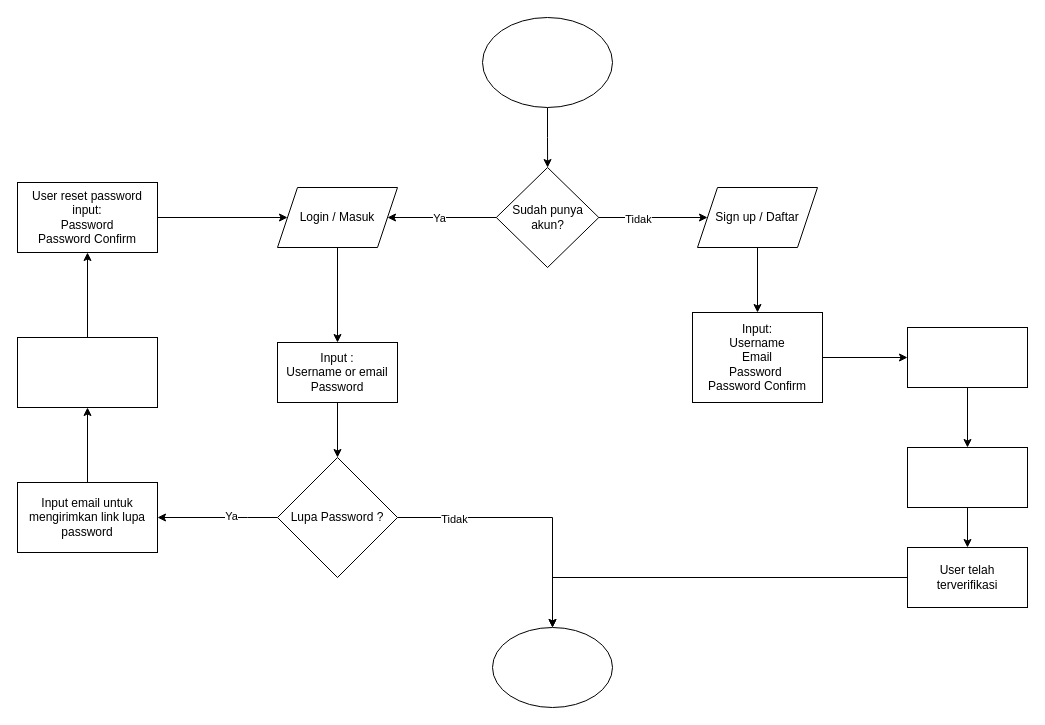
Image size: 1045x725. Some labels were removed from this diagram. Each missing label, with the centre of its shape:
Masuk Fitur Program: the point at 552,667
User mengklik link lupa password: the point at 87,372
User mengklik tautan yang telah dikirimkan: the point at 967,477
User mengklik tombol login: the point at 547,62
Verifikasi email: the point at 967,357
